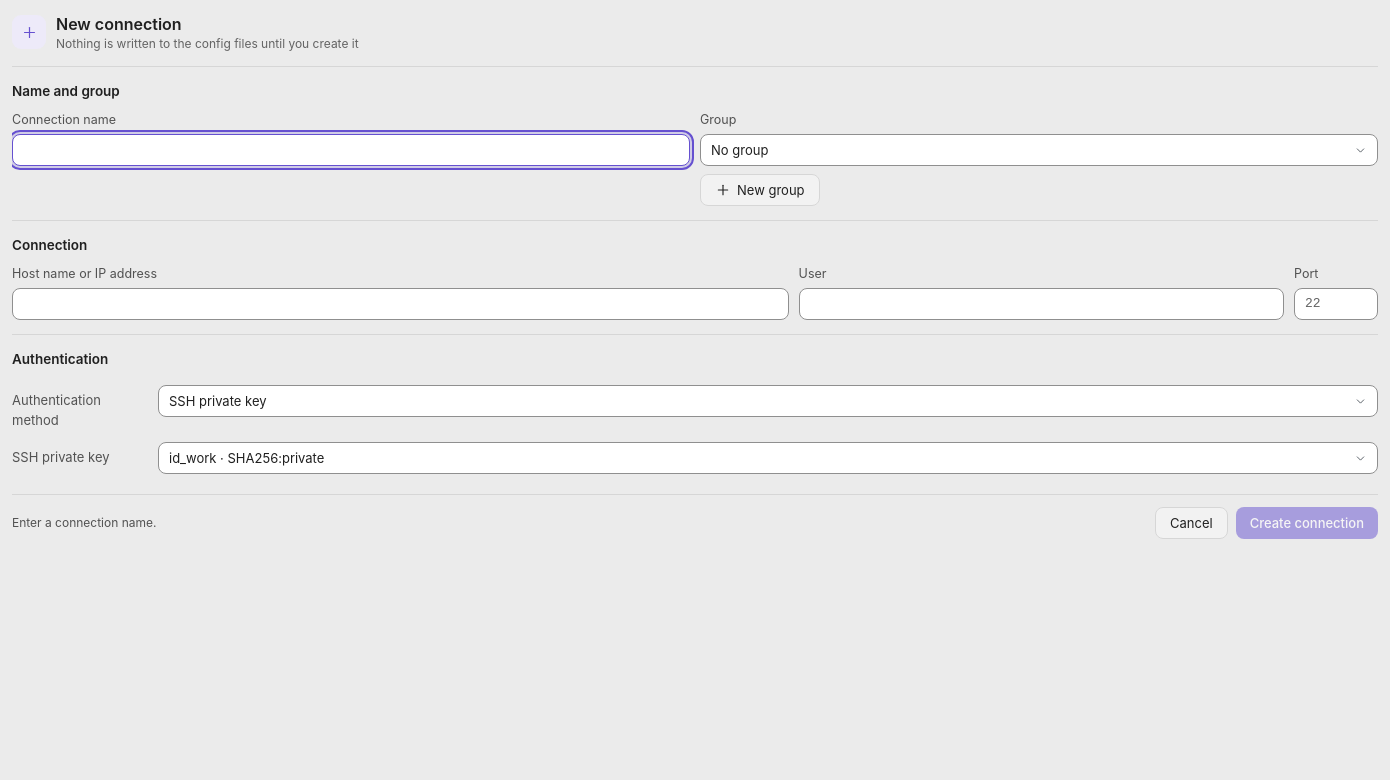
Test: CreateConnectionPane › clears secrets on Cancel
Step 1. Select "Encrypted password for this connection" in the dropdown labelled "Authentication method" → (768, 401), box [158,385,1378,417]
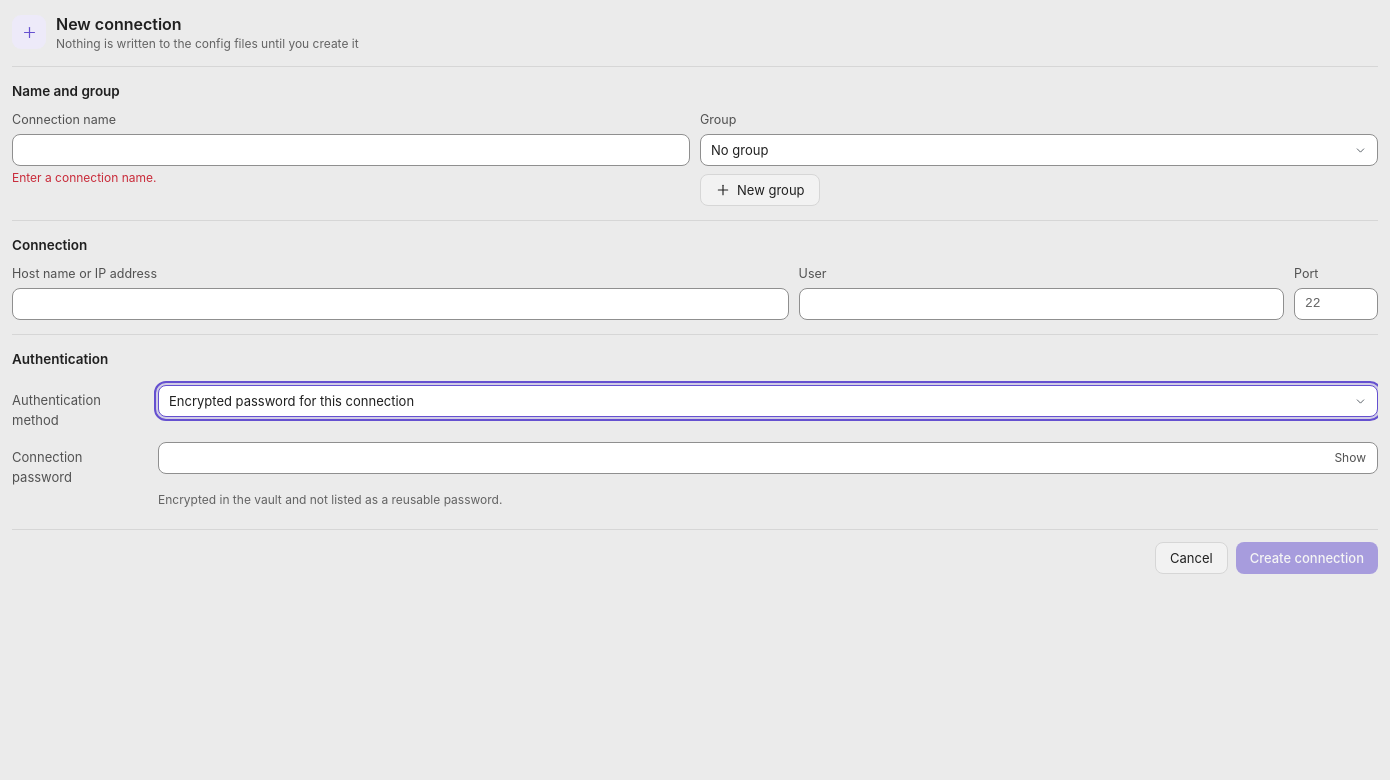
Step 2. Type "cancel-secret" into the password field named "Connection password" → (768, 458), box [158,442,1378,474]
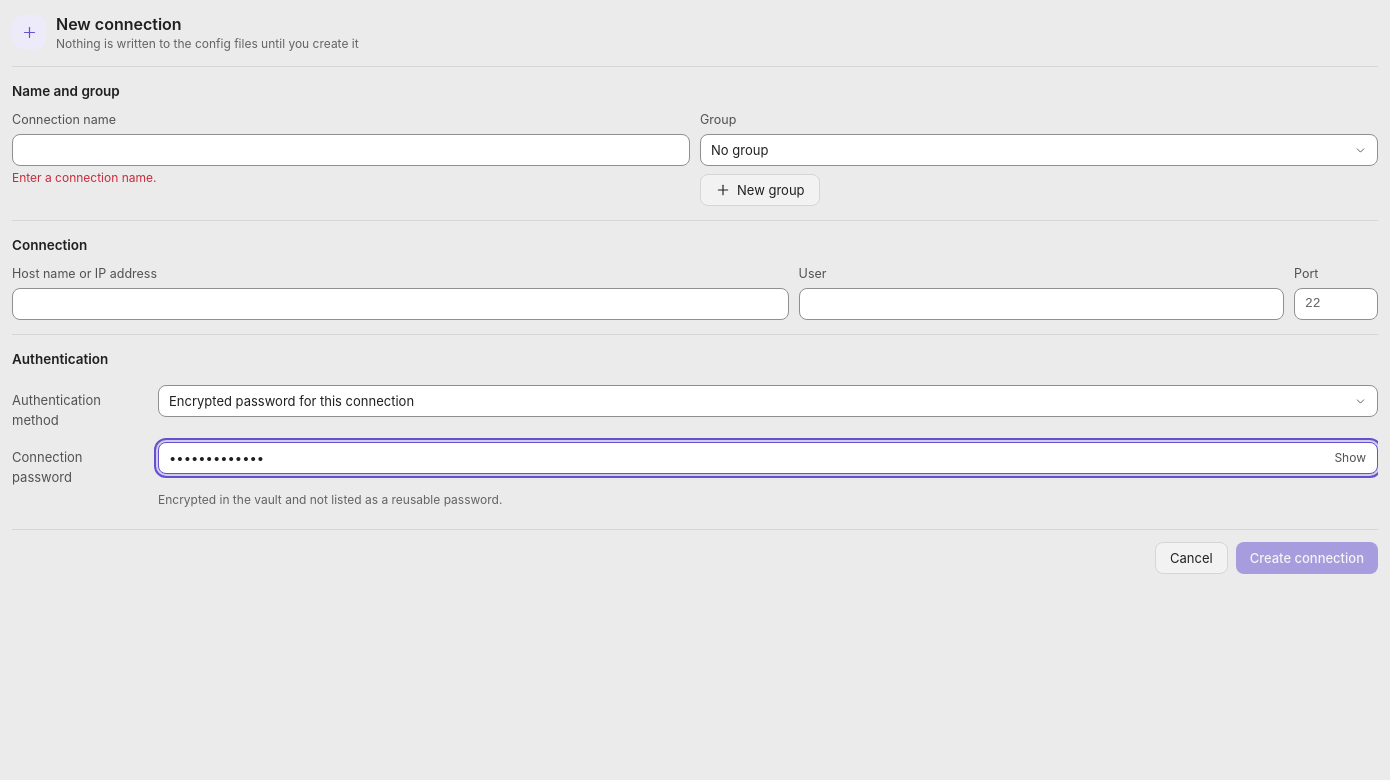
Step 3. Click the button "Cancel" → (1191, 558), box [1155,542,1228,574]
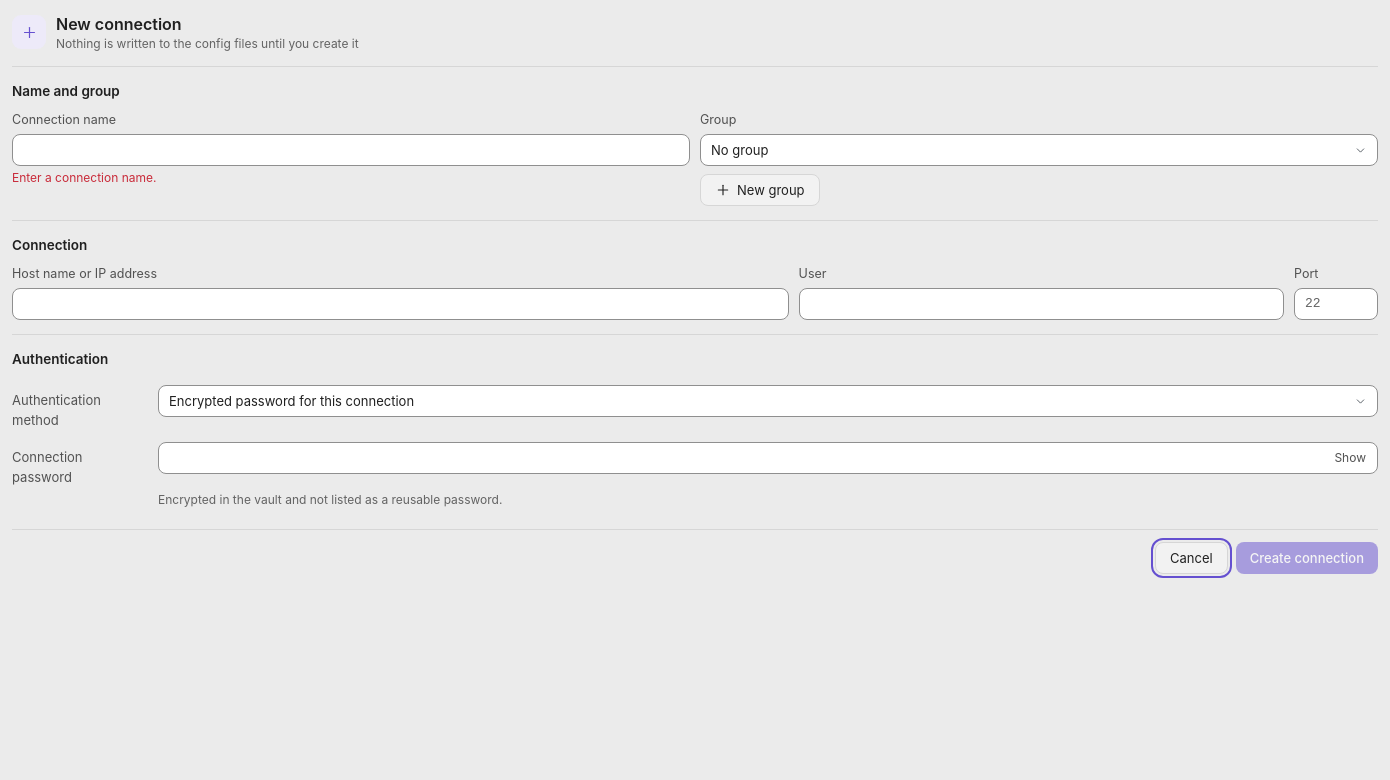
Now the password field named "Connection password" is empty, box [158,442,1378,474]
